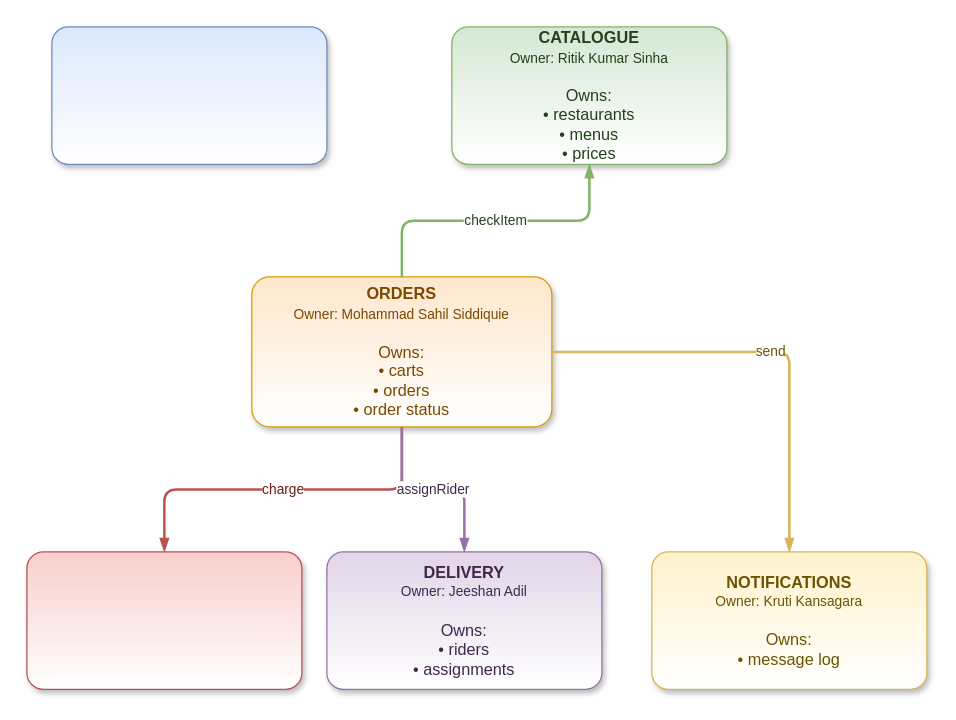
Image size: 956x720. Some labels were removed from this diagram. Each missing label, with the centre of its shape:
"ACCOUNTS Owner: Jeeshan Adil Owns: • users • addresses" goes at (190,97).
"PAYMENTS Owner: Mohammad Sahil Siddiquie Owns: • transactions • refunds" goes at (165,622).
